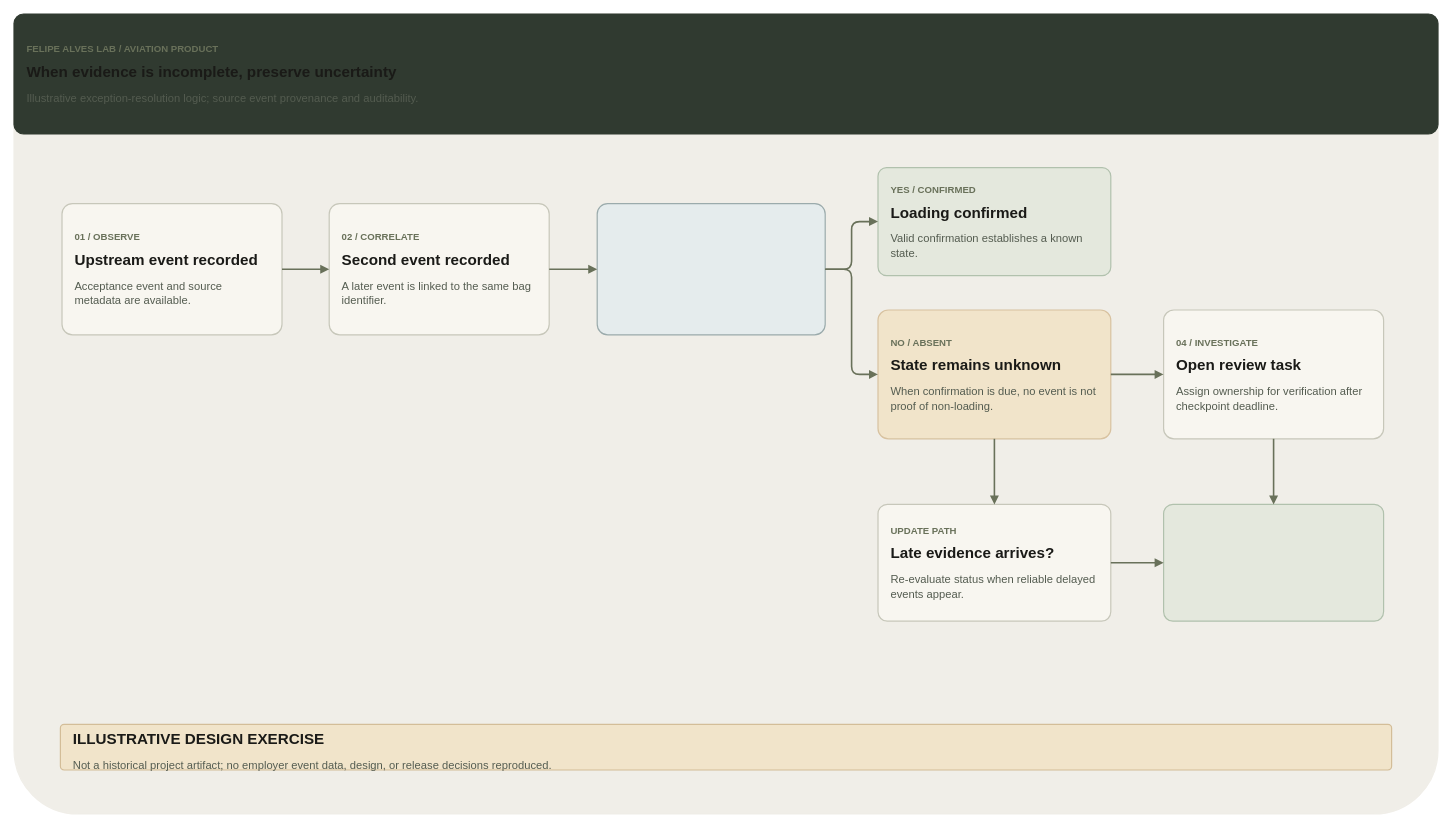
Some shapes in this 1453 by 829 pixel diagram are drawn without their labels. The centre of each missing label's shape, as x and y in pixels:
03 / DECIDE Loading evidence? Assess what the event feed actually establishes.: pixel 710 269
05 / RESOLVE Close with audit trail Record outcome, actor, evidence and reason.: pixel 1273 562
